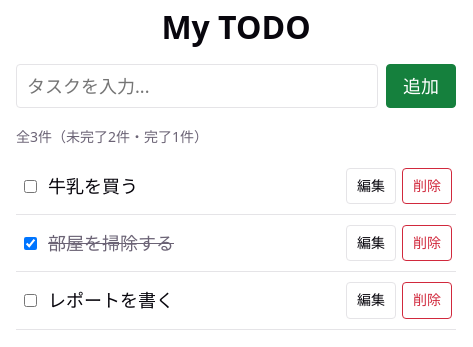
App › 全件数・未完了件数・完了件数が表示され、チェック操作で件数が更新される
Expected: the text "全3件（未完了2件・完了1件）" is shown, [16,127,208,146]
Click the checkbox labelled "牛乳を買う".
click(30, 186)  # box [24,180,37,193]
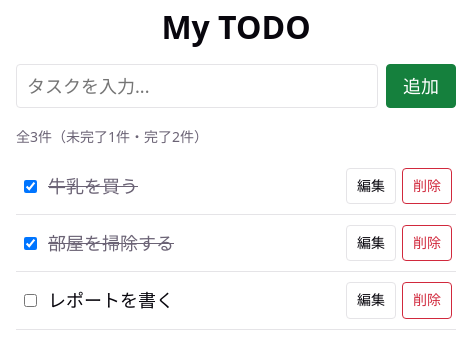
Expected: the text "全3件（未完了1件・完了2件）" is shown, [16,127,208,146]
